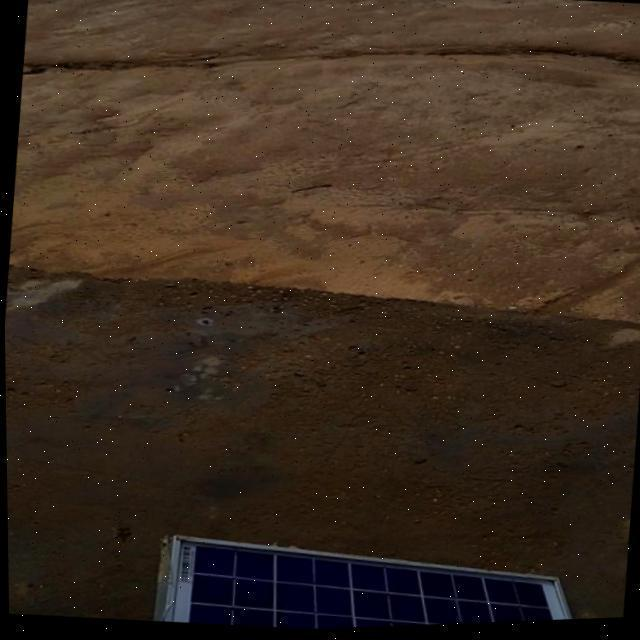Normal Solar Panel: (148, 524, 584, 636)
